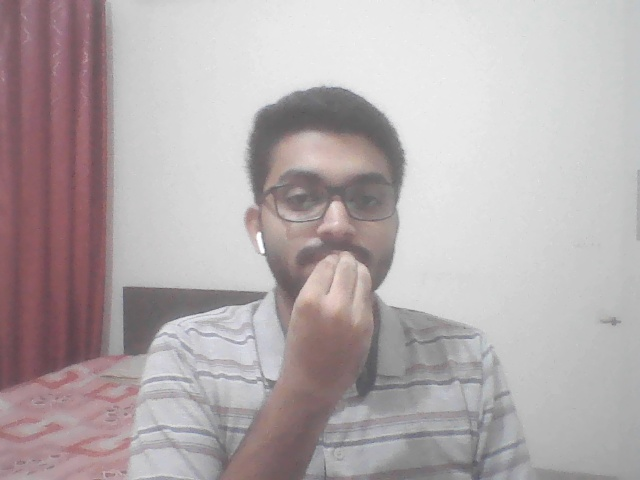eat: (267, 245, 398, 425)
